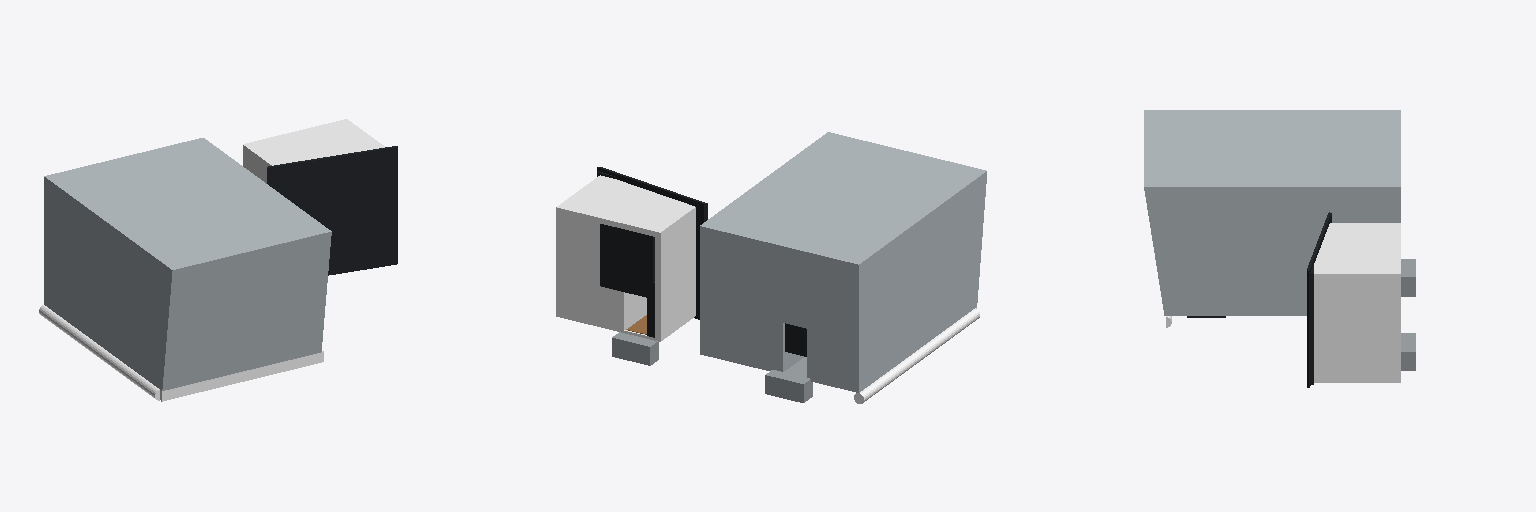
File: tinker.obj
The picture shows the model from 3 angles: view 1: azimuth 30°, elevation 25°; view 2: azimuth 150°, elevation 25°; view 3: azimuth 270°, elevation 25°; orthographic projection.
Visible parts, largest first — view 1: obj_0; view 2: obj_0; view 3: obj_0.
Part boxes in pixels (x1,y1,x2,y2): obj_0: (39,119,397,401); obj_0: (556,132,986,403); obj_0: (1144,110,1415,387).
Size of the model in its own units: 120 by 53 by 90.22.